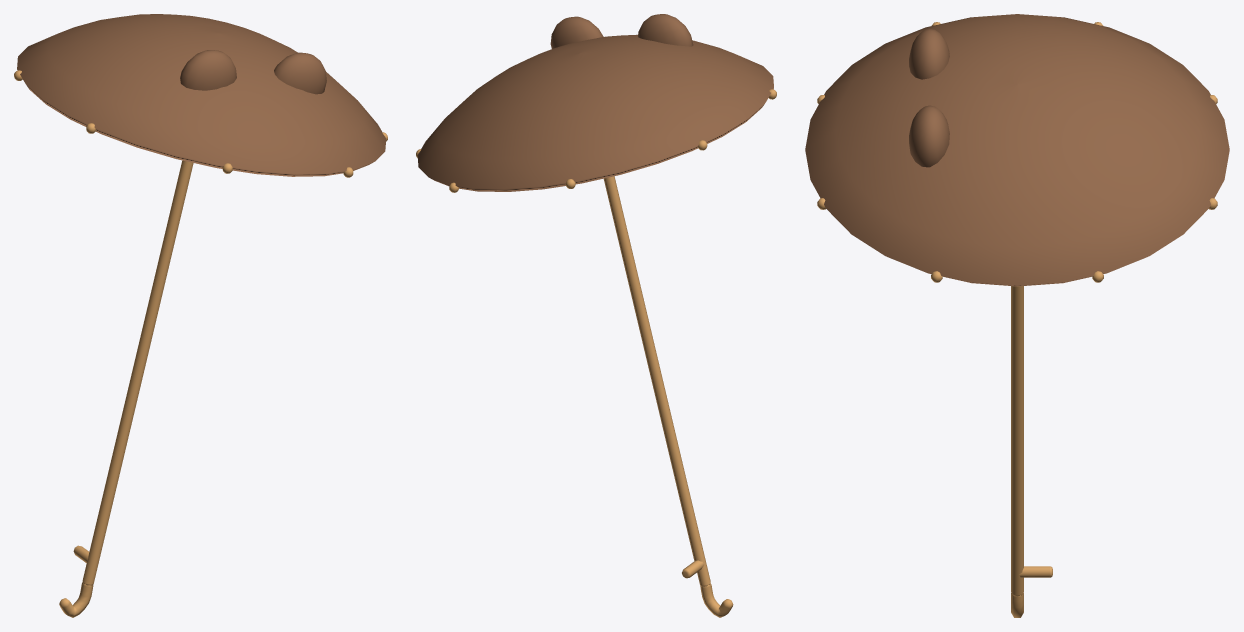
File: bear_umbrella.glb
3 renders of one model, left to right at view 1: azimuth 30°, elevation 25°; view 2: azimuth 150°, elevation 25°; view 3: azimuth 270°, elevation 25°, orthographic. The views are drawn at different scales.
Parts seen in each view (by area): view 1: bear_umbrella_ArmR; view 2: bear_umbrella_ArmR; view 3: bear_umbrella_ArmR.
Part boxes in pixels (x1,y1,x2,y2): bear_umbrella_ArmR: (14, 14, 387, 617); bear_umbrella_ArmR: (416, 14, 776, 617); bear_umbrella_ArmR: (805, 14, 1229, 617).
Bounding box in the file's own units: 0.8703 × 1.49 × 0.9.
